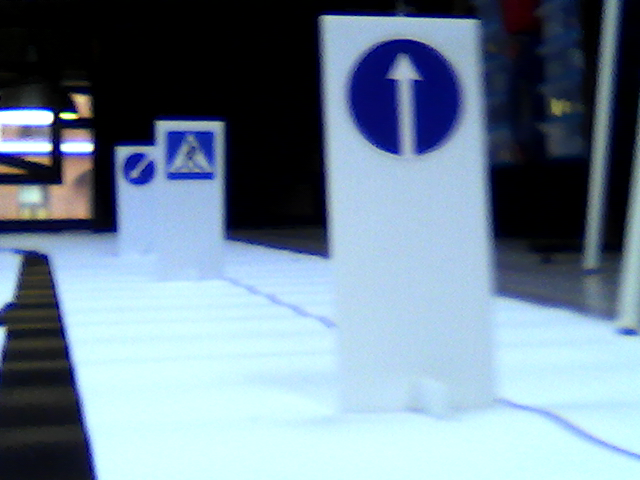forw: (349, 38, 464, 158)
pesh: (165, 128, 216, 181)
prep: (122, 152, 156, 186)
